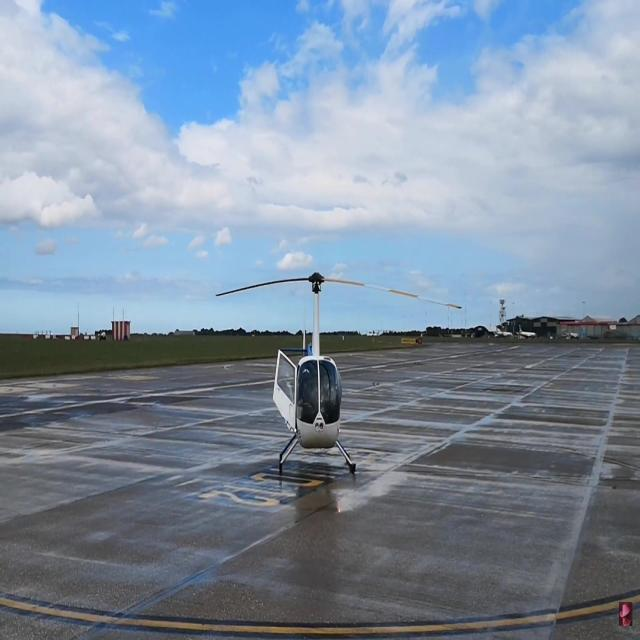CIV_HELO: (270, 271, 357, 475)
